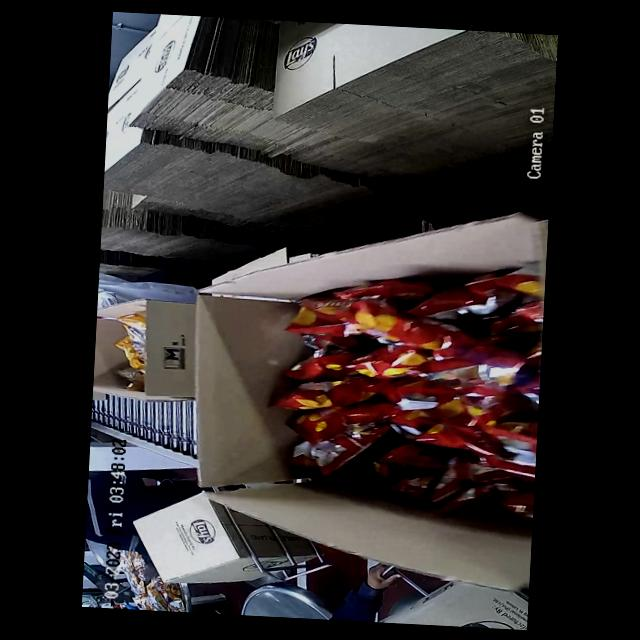cheese: (102, 304, 168, 392)
masala: (230, 260, 542, 531)
